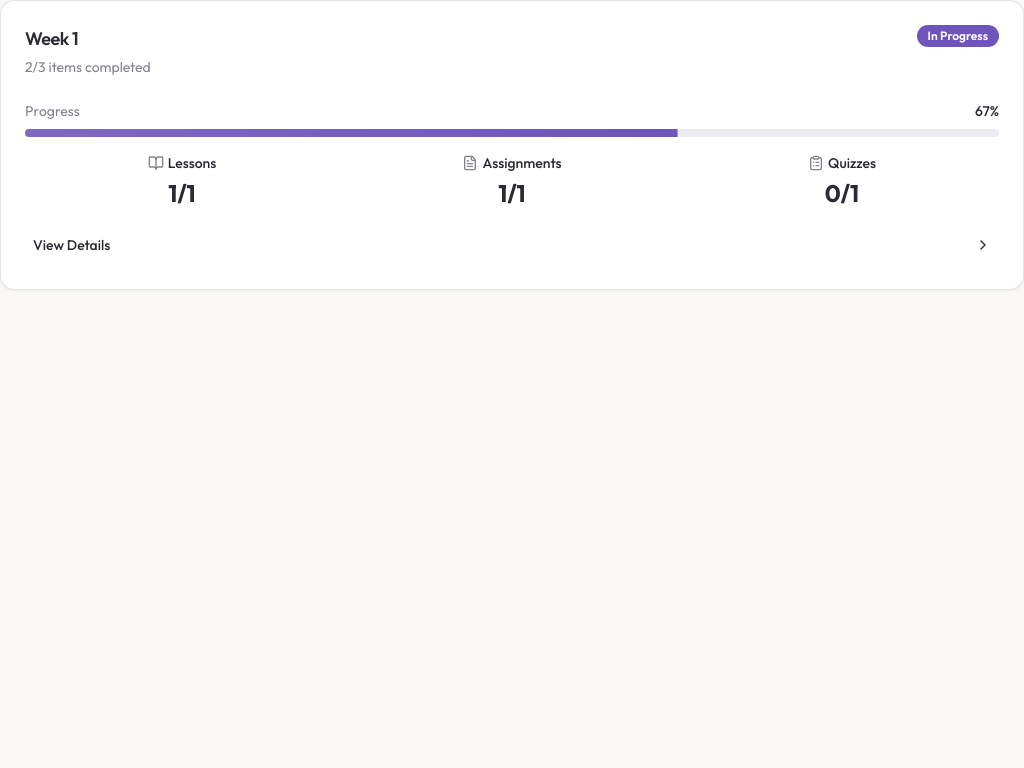
Test: ModuleProgressCard (T-10 r2) › graded with grade 0 is a real score: Graded 0/10
Click the button "View Details" at x=72, y=245, box [25, 225, 999, 265]
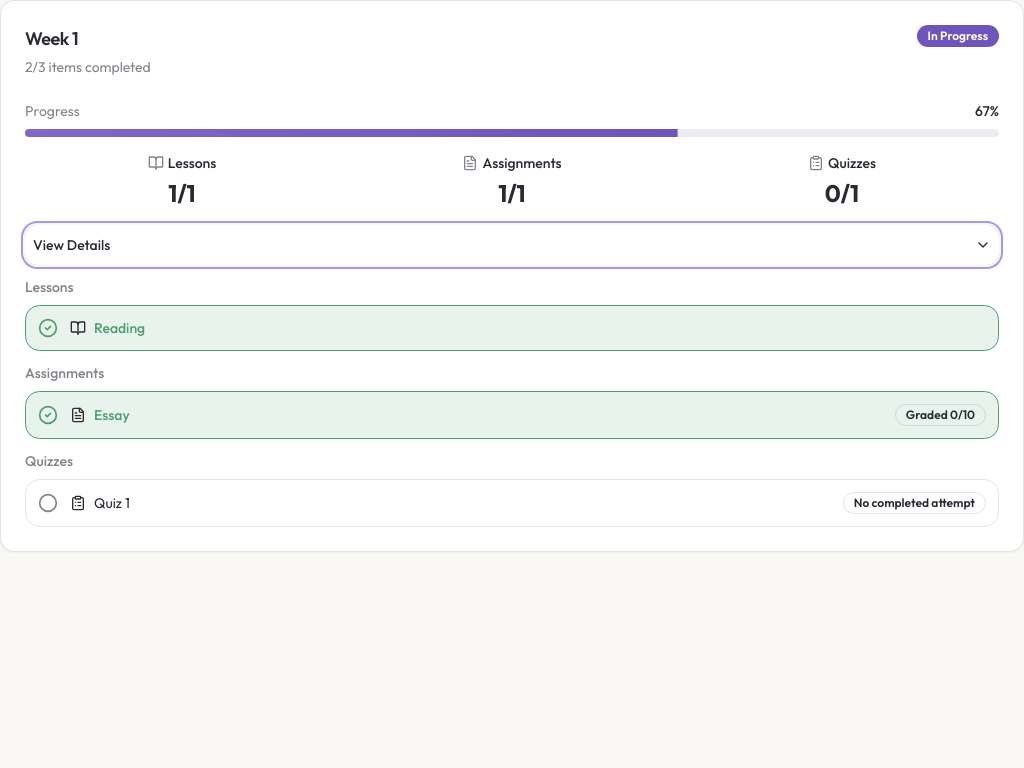
Result: the text with test id "assessment-a1" reads "Graded 0/10" at [906, 407, 975, 422]
